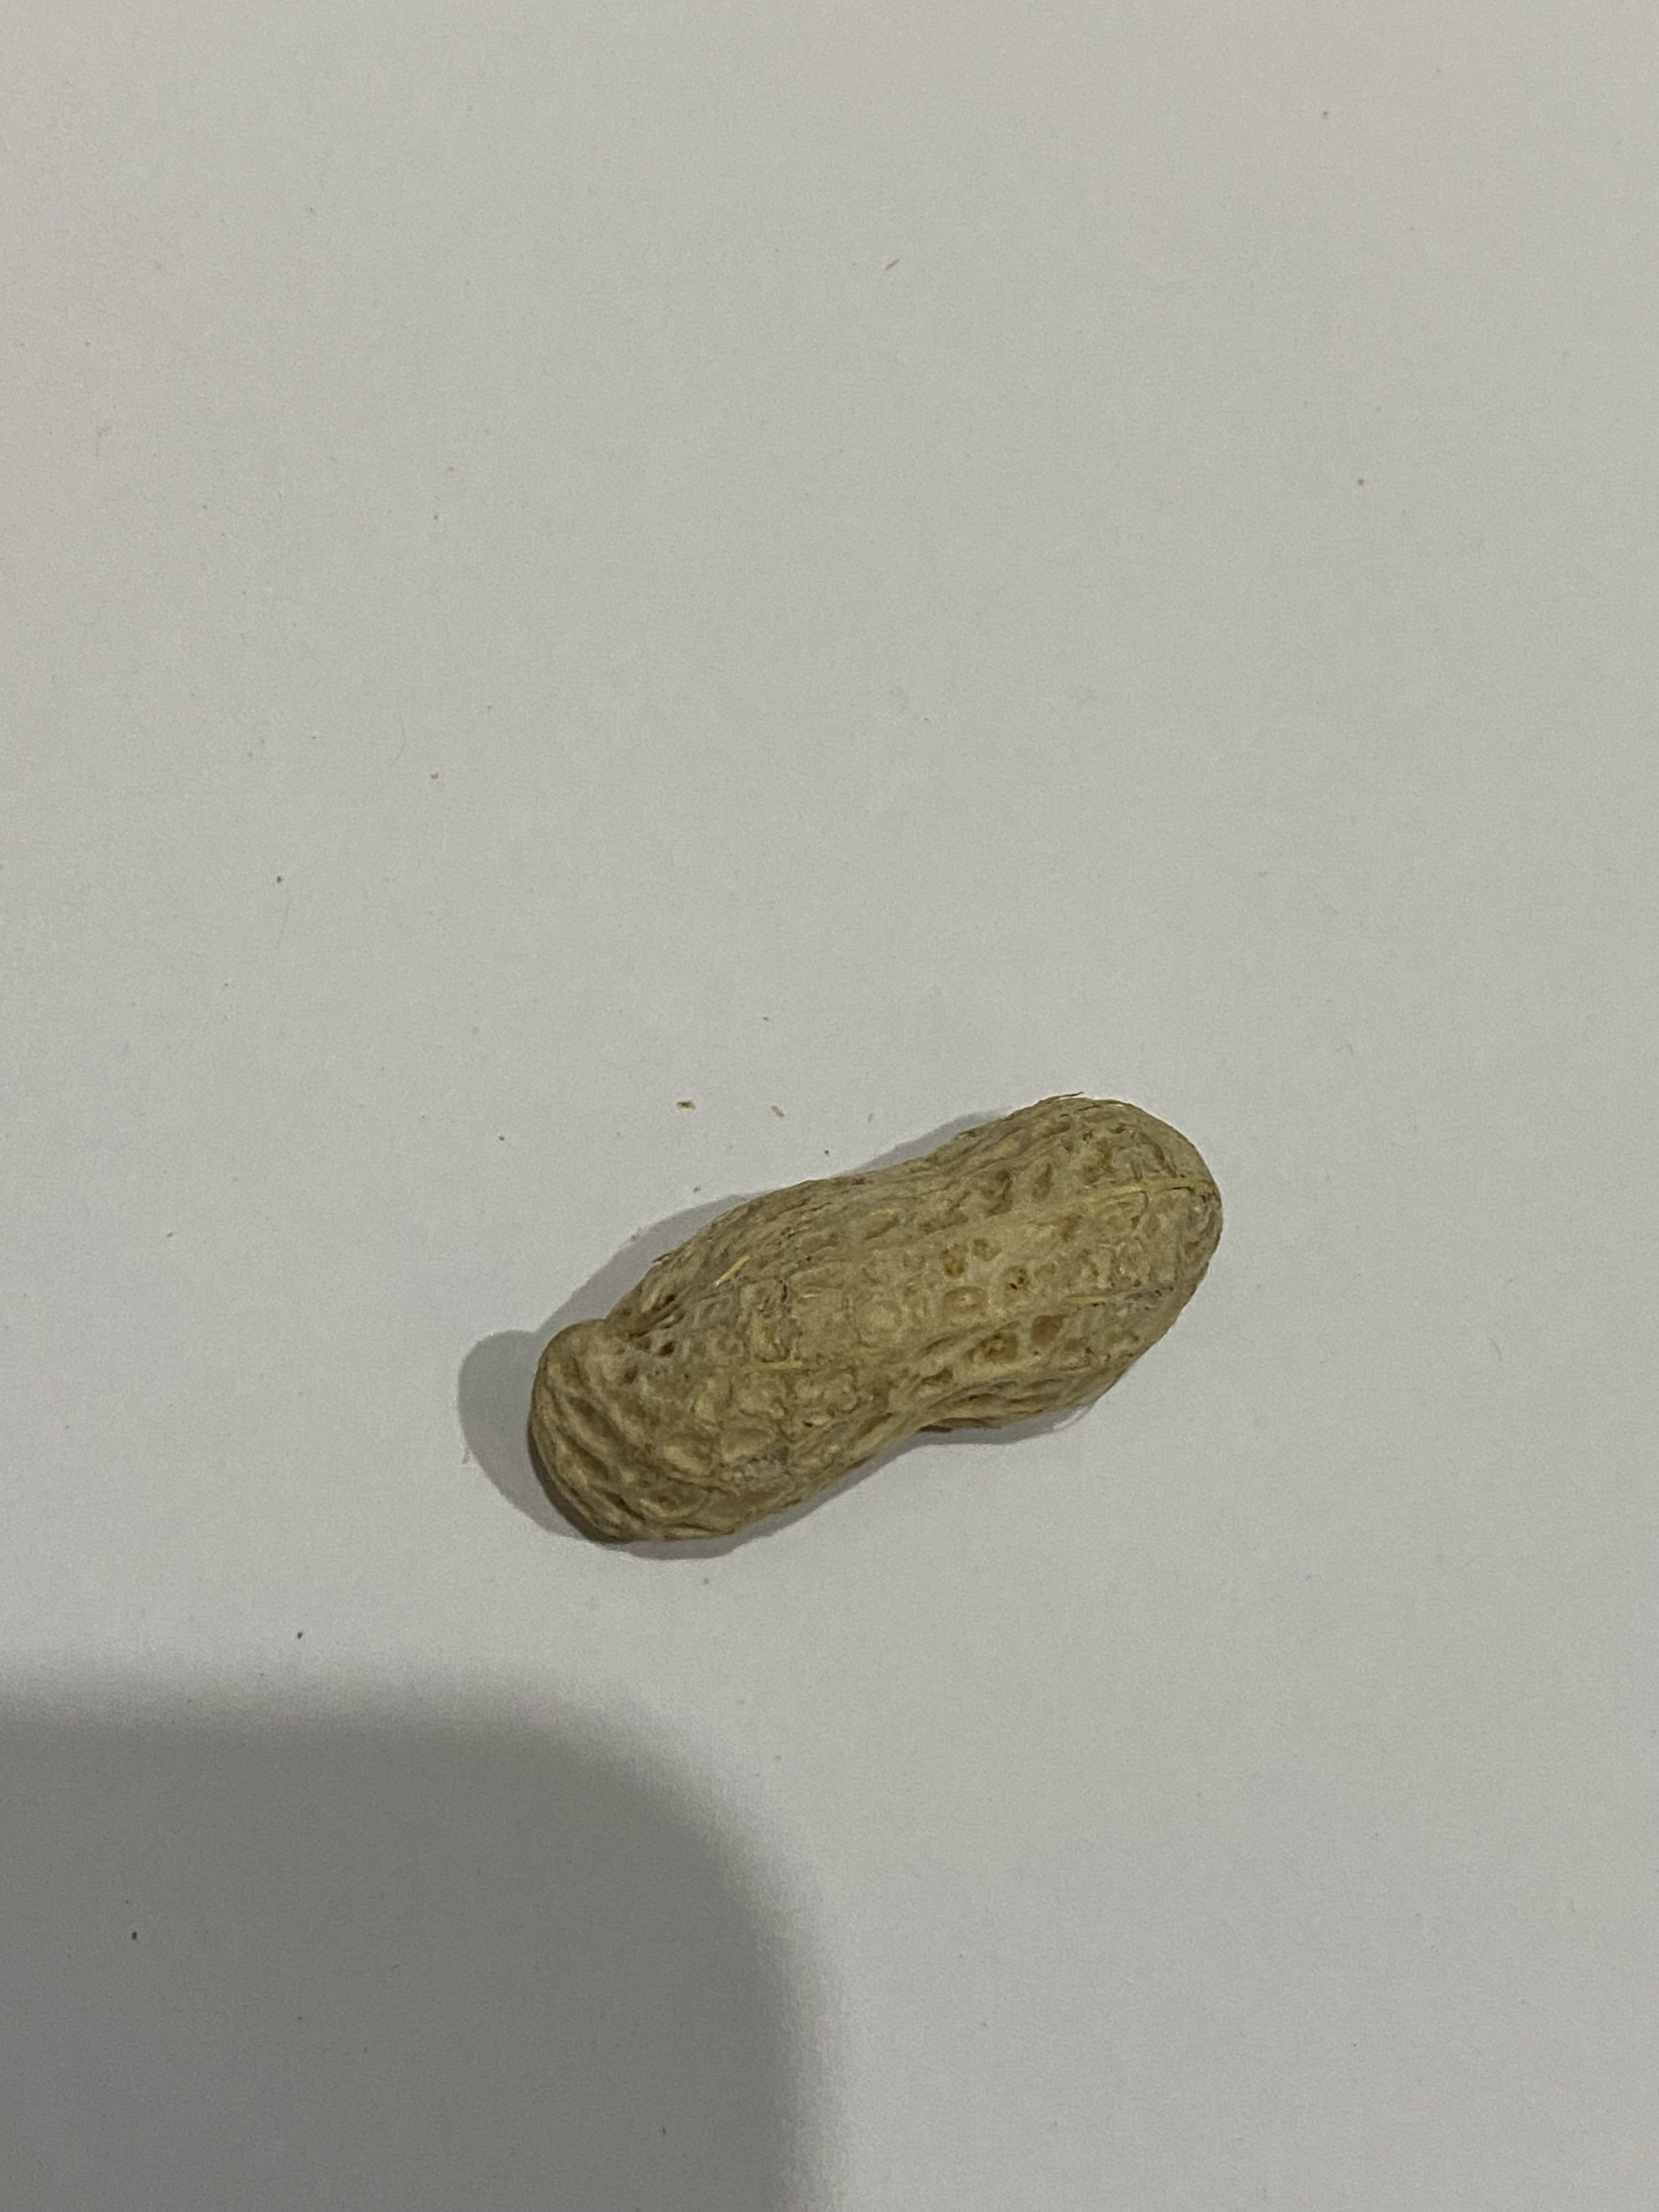kacang2: (498, 1089, 1236, 1552)
